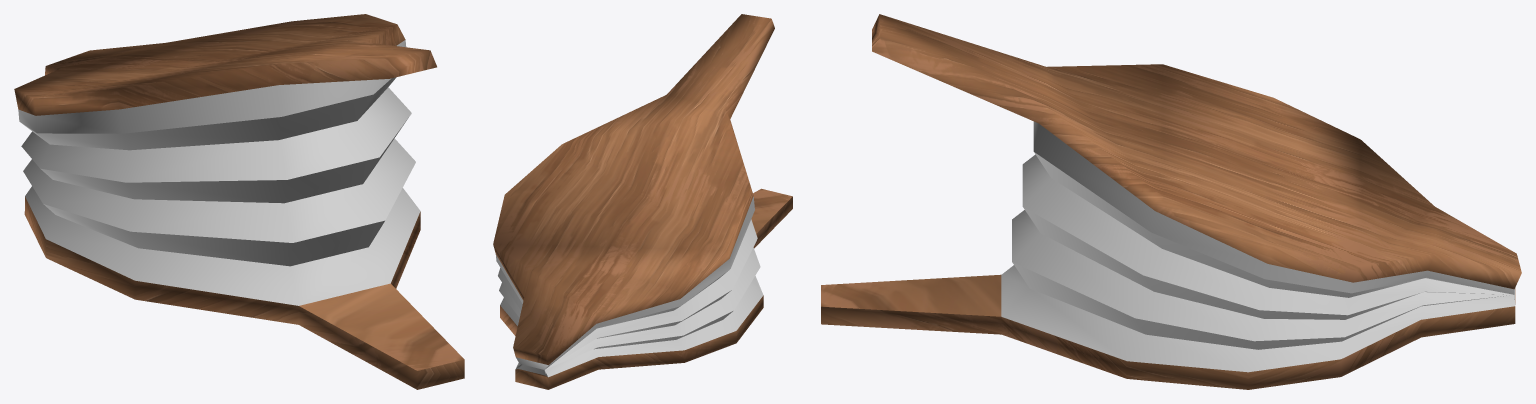
Rendered from Bellows.fbx.
3 views of the same model, side by side, from view 1: azimuth 30°, elevation 25°; view 2: azimuth 150°, elevation 25°; view 3: azimuth 270°, elevation 25° (orthographic). The views are drawn at different scales.
Parts seen in each view (by area): view 1: Bellows; view 2: Bellows; view 3: Bellows.
Part boxes in pixels (<box>): Bellows: <box>14,14,464,389</box>; Bellows: <box>493,14,792,389</box>; Bellows: <box>821,14,1521,389</box>.
Size of the model in its own units: 0.4001 by 0.3532 by 0.7757.
